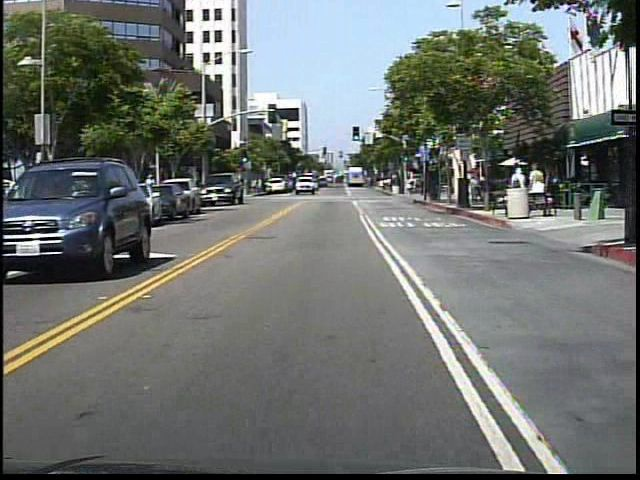person: (252, 175, 265, 200)
